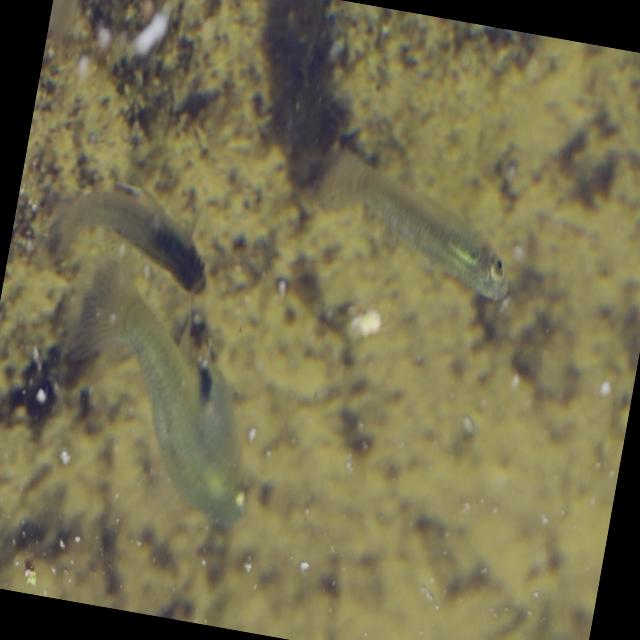Sivrisinek Baligi: (34, 251, 284, 539), (295, 120, 528, 302)
